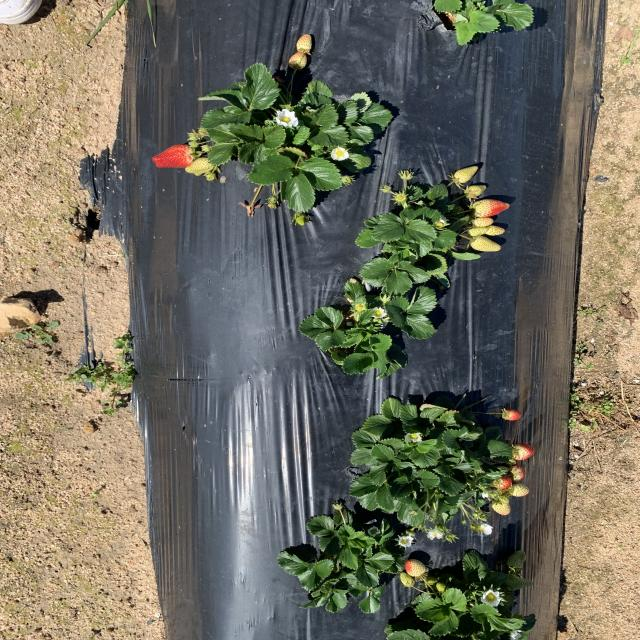unripe: (152, 144, 197, 169), (492, 472, 510, 488)
